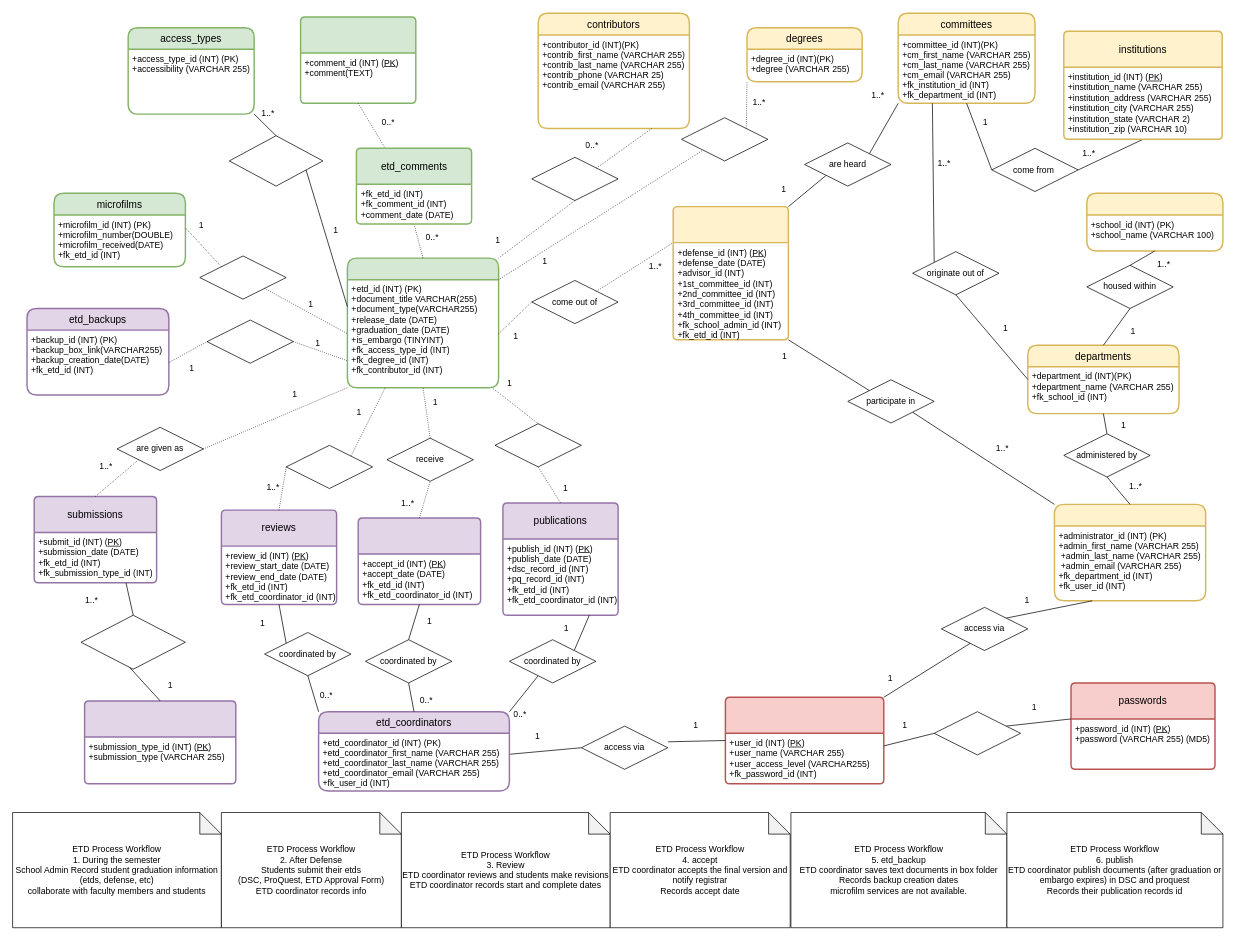
The diagram is 1236 pixels wide and 940 high, and some of its shapes have lost their labels. Here are the shapes that lost their labels. From the top down, the box of each, then its label:
(300, 16, 416, 104): comments
(681, 117, 768, 161): requirements for
(229, 135, 323, 186): visibility limited by
(531, 157, 618, 201): work on
(1086, 192, 1223, 251): schools
(199, 255, 286, 299): made into
(672, 206, 789, 340): defenses
(206, 319, 293, 363): are stored as
(346, 257, 499, 388): etds
(494, 423, 581, 467): become
(285, 445, 373, 489): go through
(357, 517, 481, 605): approvals
(1053, 503, 1206, 601): administrators
(80, 615, 185, 669): submitted as
(84, 700, 236, 784): submission_types
(724, 696, 884, 784): users
(933, 711, 1021, 755): require
